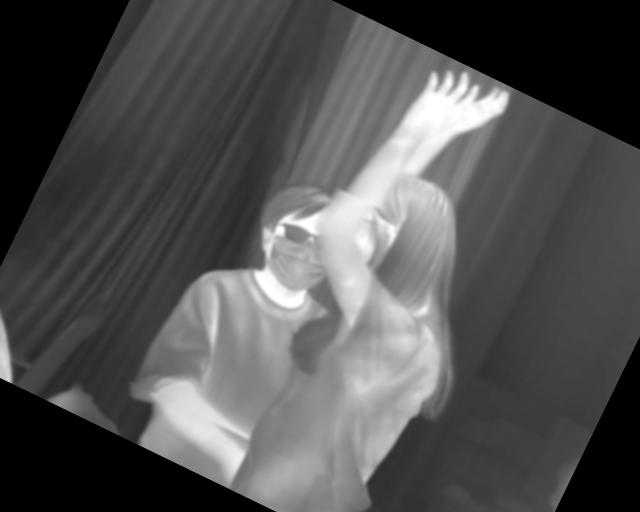face: (243, 168, 354, 296)
